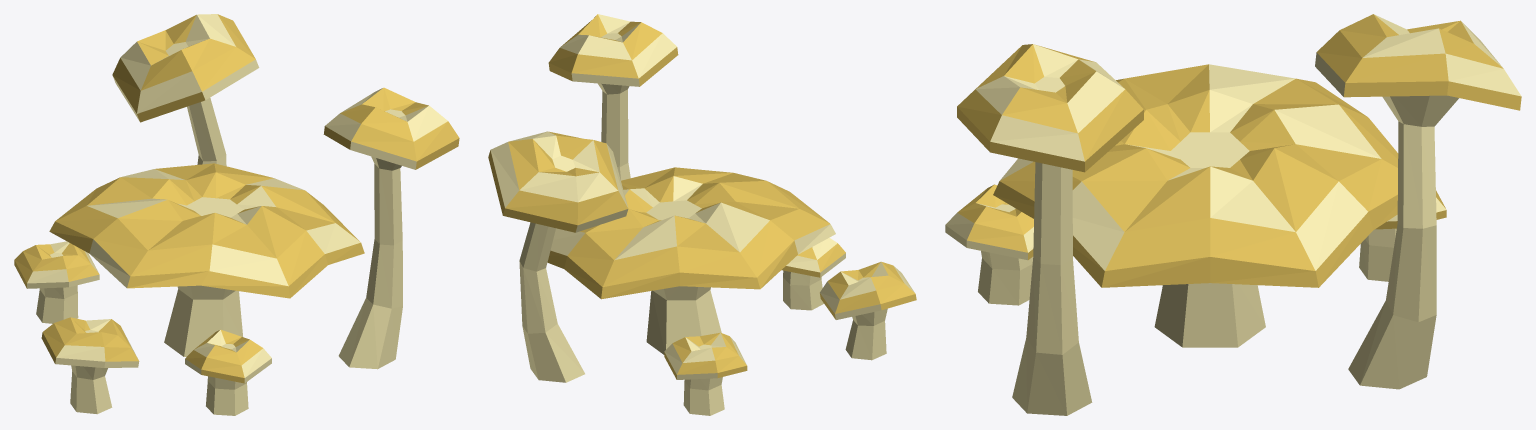
The model's file is shroom_chanterelle.glb.
The picture shows the model from 3 angles, left to right: view 1: azimuth 30°, elevation 25°; view 2: azimuth 150°, elevation 25°; view 3: azimuth 270°, elevation 25°; orthographic projection. The views are drawn at different scales.
Visible parts, largest first — view 1: shroom_chanterelle; view 2: shroom_chanterelle; view 3: shroom_chanterelle.
Boxes of the visible parts, bbox=[...] form: shroom_chanterelle: bbox=[14, 14, 459, 415]; shroom_chanterelle: bbox=[488, 14, 916, 415]; shroom_chanterelle: bbox=[945, 14, 1521, 415].
Bounding box in the file's own units: 0.45 × 0.2904 × 0.4248.
